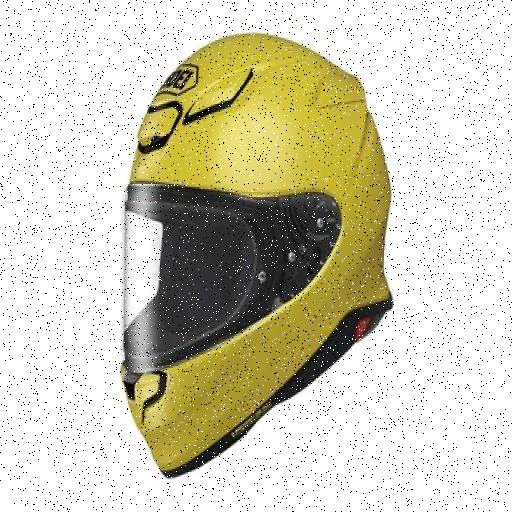Helmet: (106, 22, 428, 490)
